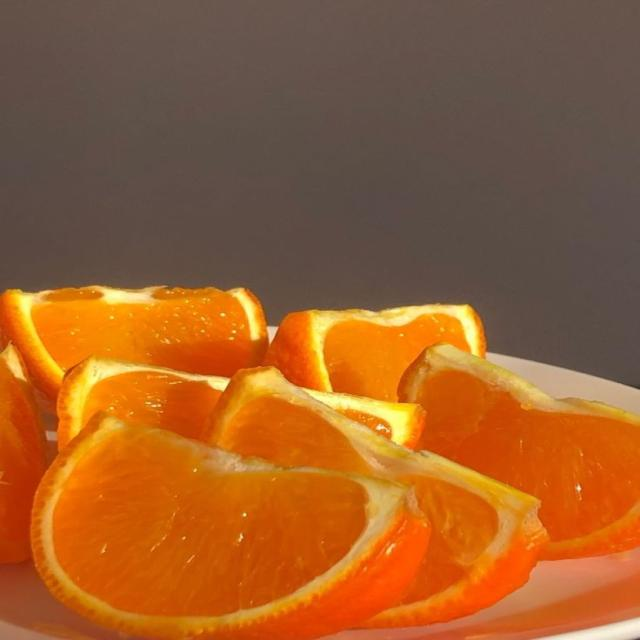orange: (32, 415, 429, 639), (211, 368, 546, 626), (400, 344, 639, 558), (0, 286, 267, 402), (264, 305, 485, 401), (57, 357, 228, 448), (58, 357, 228, 447), (0, 346, 45, 562)
